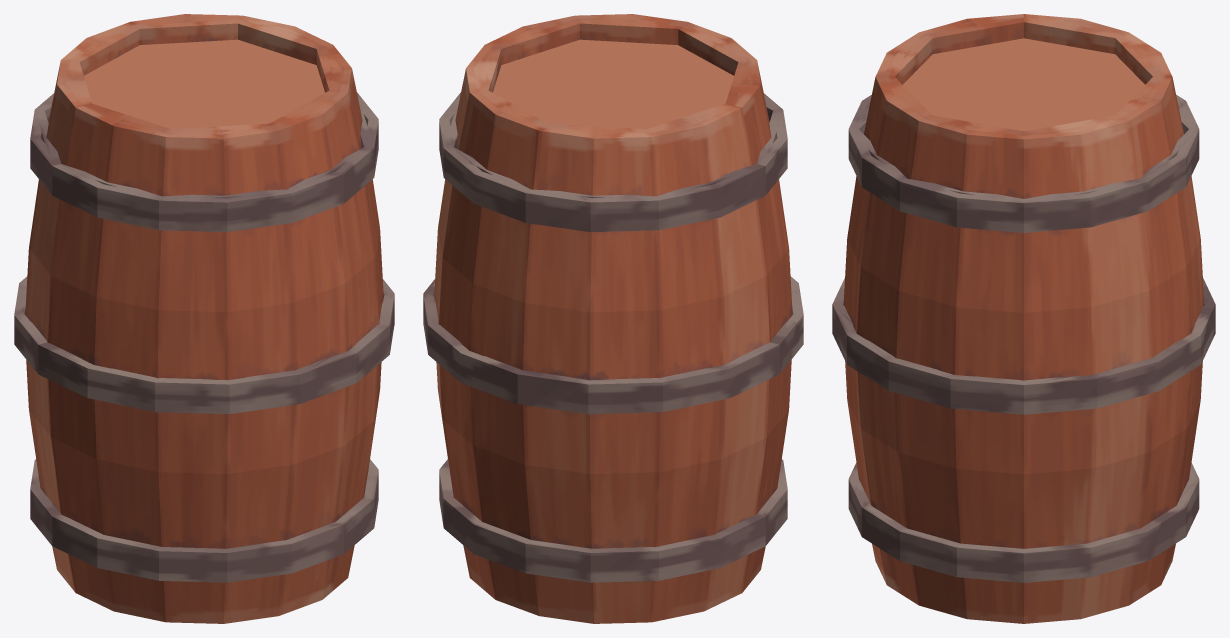
Rendered from barrel.bundle.fbx.
3 views of the same model, side by side, from view 1: azimuth 30°, elevation 25°; view 2: azimuth 150°, elevation 25°; view 3: azimuth 270°, elevation 25° (orthographic).
Parts seen in each view (by area): view 1: barrel, barrel_low, barrel_s03, barrel_s02; view 2: barrel, barrel_low, barrel_s03, barrel_s02, barrel_s01; view 3: barrel, barrel_low, barrel_s03, barrel_s01, barrel_s02.
Boxes of the visible parts, x1=… form: barrel: x1=14, y1=14, x2=394, y2=623; barrel_low: x1=19, y1=16, x2=389, y2=550; barrel_s03: x1=70, y1=22, x2=369, y2=165; barrel_s02: x1=96, y1=117, x2=341, y2=199; barrel: x1=423, y1=14, x2=803, y2=623; barrel_low: x1=428, y1=16, x2=798, y2=550; barrel_s03: x1=495, y1=16, x2=673, y2=373; barrel_s02: x1=653, y1=20, x2=782, y2=143; barrel_s01: x1=606, y1=81, x2=783, y2=382; barrel: x1=832, y1=14, x2=1215, y2=623; barrel_low: x1=833, y1=14, x2=1209, y2=552; barrel_s03: x1=891, y1=38, x2=1214, y2=314; barrel_s01: x1=973, y1=15, x2=1212, y2=302; barrel_s02: x1=852, y1=23, x2=975, y2=160.
Bounding box in the file's own units: 2.58 × 3.6 × 2.58.
Materials: 1 (1 with a texture image).
